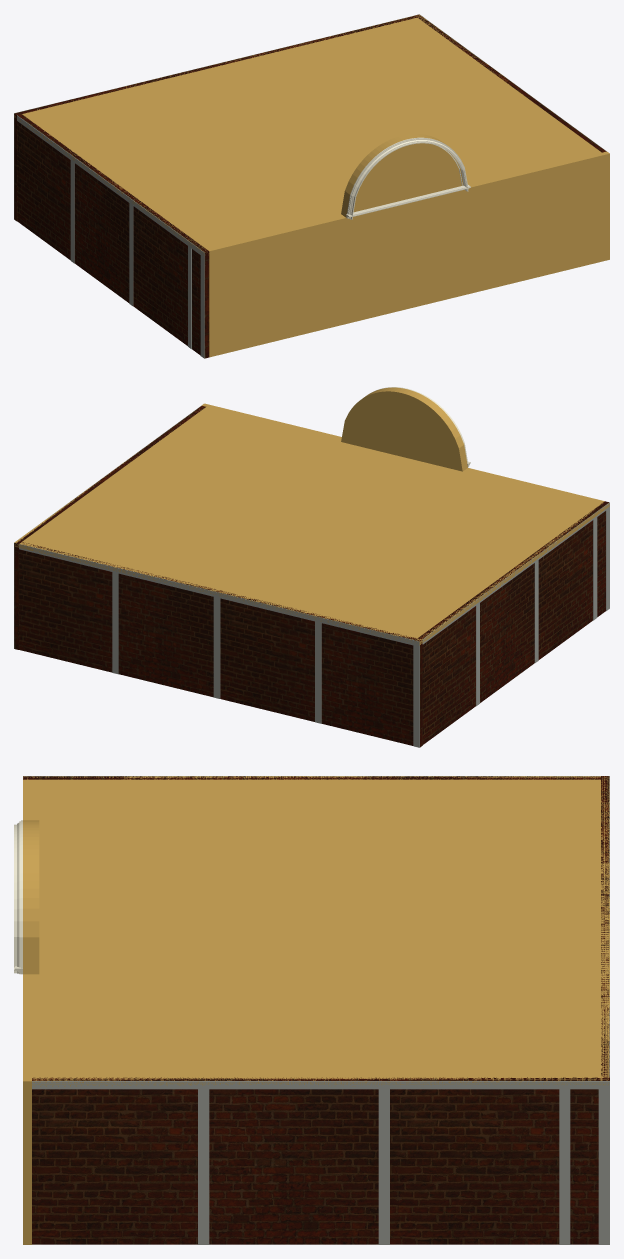
Rendered from building.glb.
3 views of the same model, one above another, from view 1: azimuth 30°, elevation 25°; view 2: azimuth 150°, elevation 25°; view 3: azimuth 270°, elevation 25° (orthographic). The views are drawn at different scales.
Visible parts, largest first — view 1: roof/house:0/roof_slab#0001, house:0/edge0/z0/house:0/edge0/z0/wall_0_0, house:0/edge3/z0/house:0/edge3/z0/wall_0_0, crown/coronamiento/crown_body#0001, house:0/edge2/z0/house:0/edge2/z0/wall_0_0, house:0/edge3/z0/house:0/edge3/z0/beam_0_0, crown/coronamiento/crown_moulding#0001, house:0/edge1/z0/house:0/edge1/z0/wall_0_0, crown/coronamiento/crown_base_cornice#0001, house:0/edge3/z0/house:0/edge3/z0/column_1_0, house:0/edge3/z0/house:0/edge3/z0/column_2_0, house:0/edge3/z0/house:0/edge3/z0/column_3_0; view 2: roof/house:0/roof_slab#0001, house:0/edge2/z0/house:0/edge2/z0/wall_0_0, house:0/edge3/z0/house:0/edge3/z0/wall_0_0, crown/coronamiento/crown_body#0001, house:0/edge2/z0/house:0/edge2/z0/beam_0_0, house:0/edge1/z0/house:0/edge1/z0/wall_0_0, house:0/edge0/z0/house:0/edge0/z0/wall_0_0, house:0/edge3/z0/house:0/edge3/z0/beam_0_0, house:0/edge2/z0/house:0/edge2/z0/column_3_0, house:0/edge2/z0/house:0/edge2/z0/column_1_0, house:0/edge2/z0/house:0/edge2/z0/column_2_0, house:0/edge2/z0/house:0/edge2/z0/column_4_0 (+2 smaller); view 3: roof/house:0/roof_slab#0001, house:0/edge1/z0/house:0/edge1/z0/wall_0_0, house:0/edge1/z0/house:0/edge1/z0/beam_0_0, house:0/edge0/z0/house:0/edge0/z0/wall_0_0, crown/coronamiento/crown_body#0001, house:0/edge3/z0/house:0/edge3/z0/wall_0_0, house:0/edge2/z0/house:0/edge2/z0/wall_0_0, house:0/edge1/z0/house:0/edge1/z0/column_1_0, house:0/edge1/z0/house:0/edge1/z0/column_2_0, house:0/edge1/z0/house:0/edge1/z0/column_3_0, house:0/edge1/z0/house:0/edge1/z0/column_4_0, crown/coronamiento/crown_moulding#0001.
Part boxes in pixels (x1=…): roof/house:0/roof_slab#0001: x1=14, y1=14, x2=609, y2=255; house:0/edge0/z0/house:0/edge0/z0/wall_0_0: x1=207, y1=151, x2=609, y2=357; house:0/edge3/z0/house:0/edge3/z0/wall_0_0: x1=17, y1=114, x2=209, y2=358; crown/coronamiento/crown_body#0001: x1=341, y1=134, x2=463, y2=216; house:0/edge2/z0/house:0/edge2/z0/wall_0_0: x1=14, y1=15, x2=416, y2=221; house:0/edge3/z0/house:0/edge3/z0/beam_0_0: x1=17, y1=115, x2=204, y2=257; crown/coronamiento/crown_moulding#0001: x1=347, y1=137, x2=468, y2=219; house:0/edge1/z0/house:0/edge1/z0/wall_0_0: x1=415, y1=14, x2=606, y2=152; crown/coronamiento/crown_base_cornice#0001: x1=346, y1=185, x2=470, y2=217; house:0/edge3/z0/house:0/edge3/z0/column_1_0: x1=200, y1=255, x2=204, y2=358; house:0/edge3/z0/house:0/edge3/z0/column_2_0: x1=70, y1=160, x2=74, y2=263; house:0/edge3/z0/house:0/edge3/z0/column_3_0: x1=129, y1=203, x2=133, y2=305; roof/house:0/roof_slab#0001: x1=14, y1=404, x2=609, y2=645; house:0/edge2/z0/house:0/edge2/z0/wall_0_0: x1=19, y1=542, x2=422, y2=747; house:0/edge3/z0/house:0/edge3/z0/wall_0_0: x1=418, y1=501, x2=608, y2=744; crown/coronamiento/crown_body#0001: x1=341, y1=388, x2=466, y2=471; house:0/edge2/z0/house:0/edge2/z0/beam_0_0: x1=19, y1=544, x2=419, y2=646; house:0/edge1/z0/house:0/edge1/z0/wall_0_0: x1=14, y1=406, x2=205, y2=649; house:0/edge0/z0/house:0/edge0/z0/wall_0_0: x1=202, y1=403, x2=603, y2=501; house:0/edge3/z0/house:0/edge3/z0/beam_0_0: x1=422, y1=502, x2=609, y2=644; house:0/edge2/z0/house:0/edge2/z0/column_3_0: x1=213, y1=597, x2=220, y2=698; house:0/edge2/z0/house:0/edge2/z0/column_1_0: x1=413, y1=645, x2=419, y2=747; house:0/edge2/z0/house:0/edge2/z0/column_2_0: x1=112, y1=572, x2=118, y2=674; house:0/edge2/z0/house:0/edge2/z0/column_4_0: x1=315, y1=621, x2=321, y2=723; roof/house:0/roof_slab#0001: x1=23, y1=776, x2=609, y2=1086; house:0/edge1/z0/house:0/edge1/z0/wall_0_0: x1=32, y1=1077, x2=609, y2=1244; house:0/edge1/z0/house:0/edge1/z0/beam_0_0: x1=32, y1=1081, x2=609, y2=1089; house:0/edge0/z0/house:0/edge0/z0/wall_0_0: x1=23, y1=779, x2=31, y2=1244; crown/coronamiento/crown_body#0001: x1=25, y1=820, x2=39, y2=974; house:0/edge3/z0/house:0/edge3/z0/wall_0_0: x1=23, y1=776, x2=600, y2=779; house:0/edge2/z0/house:0/edge2/z0/wall_0_0: x1=601, y1=776, x2=609, y2=1077; house:0/edge1/z0/house:0/edge1/z0/column_1_0: x1=598, y1=1089, x2=609, y2=1244; house:0/edge1/z0/house:0/edge1/z0/column_2_0: x1=198, y1=1089, x2=209, y2=1244; house:0/edge1/z0/house:0/edge1/z0/column_3_0: x1=378, y1=1089, x2=389, y2=1244; house:0/edge1/z0/house:0/edge1/z0/column_4_0: x1=559, y1=1089, x2=570, y2=1244; crown/coronamiento/crown_moulding#0001: x1=14, y1=820, x2=22, y2=974.
Bounding box in the file's own units: 16 × 6.4 × 13.2.
4 materials, 1 textured.
